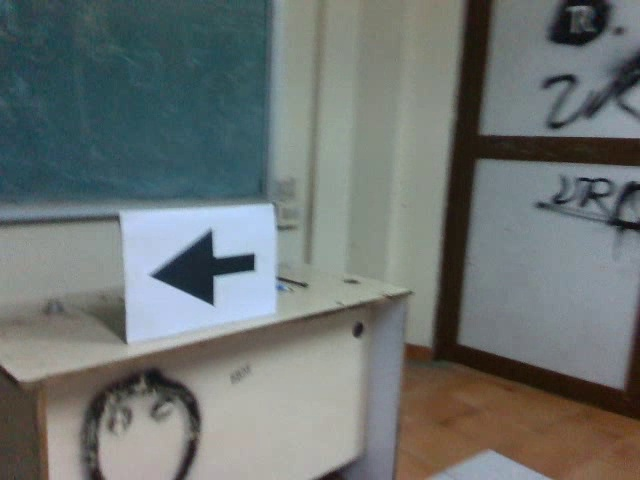Left: (144, 226, 258, 311)
